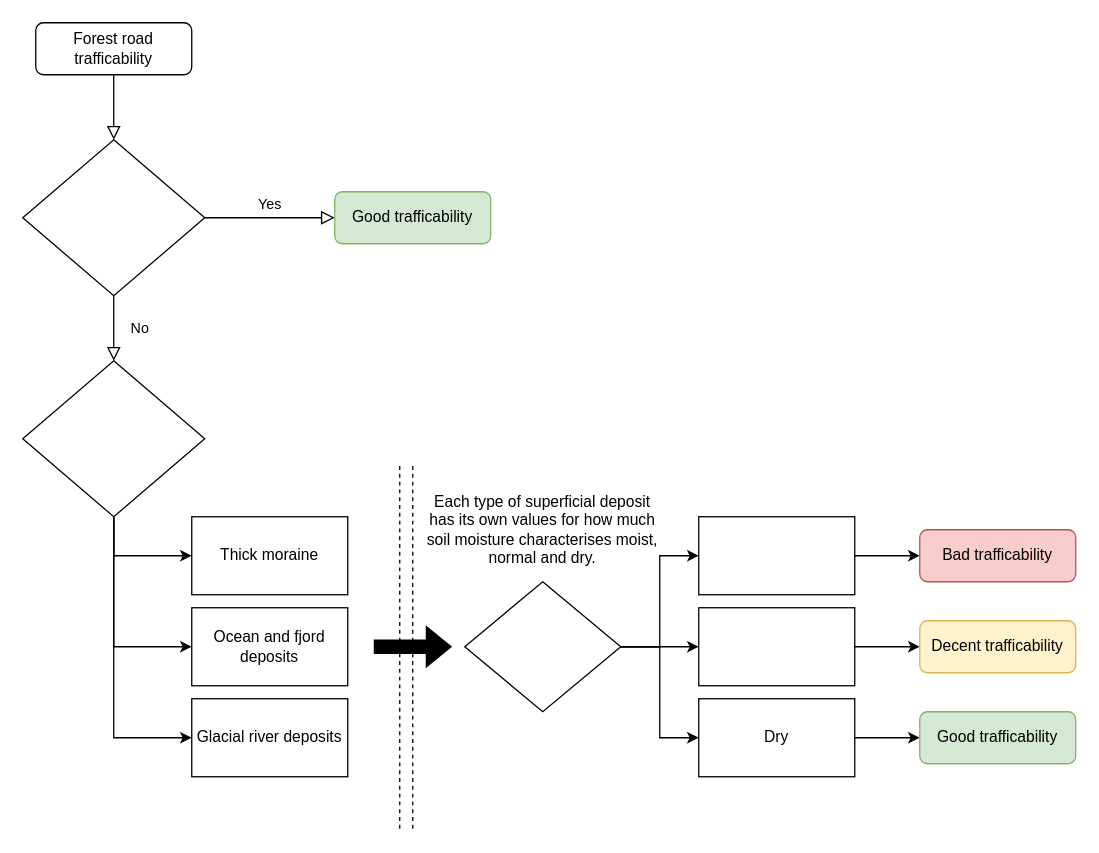
The diagram is 1099 pixels wide and 853 high, and some of its shapes have lost their labels. Each missing label, with the centre of its shape:
"How much soil moisture?" belongs at pixel 542 646.
"Is there at least 10cm frost in the ground?" belongs at pixel 113 217.
"Normal" belongs at pixel 776 646.
"Wet" belongs at pixel 776 555.
"What superficial deposits is the road built on?" belongs at pixel 113 438.
